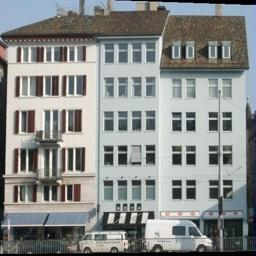building: (0, 0, 249, 256)
